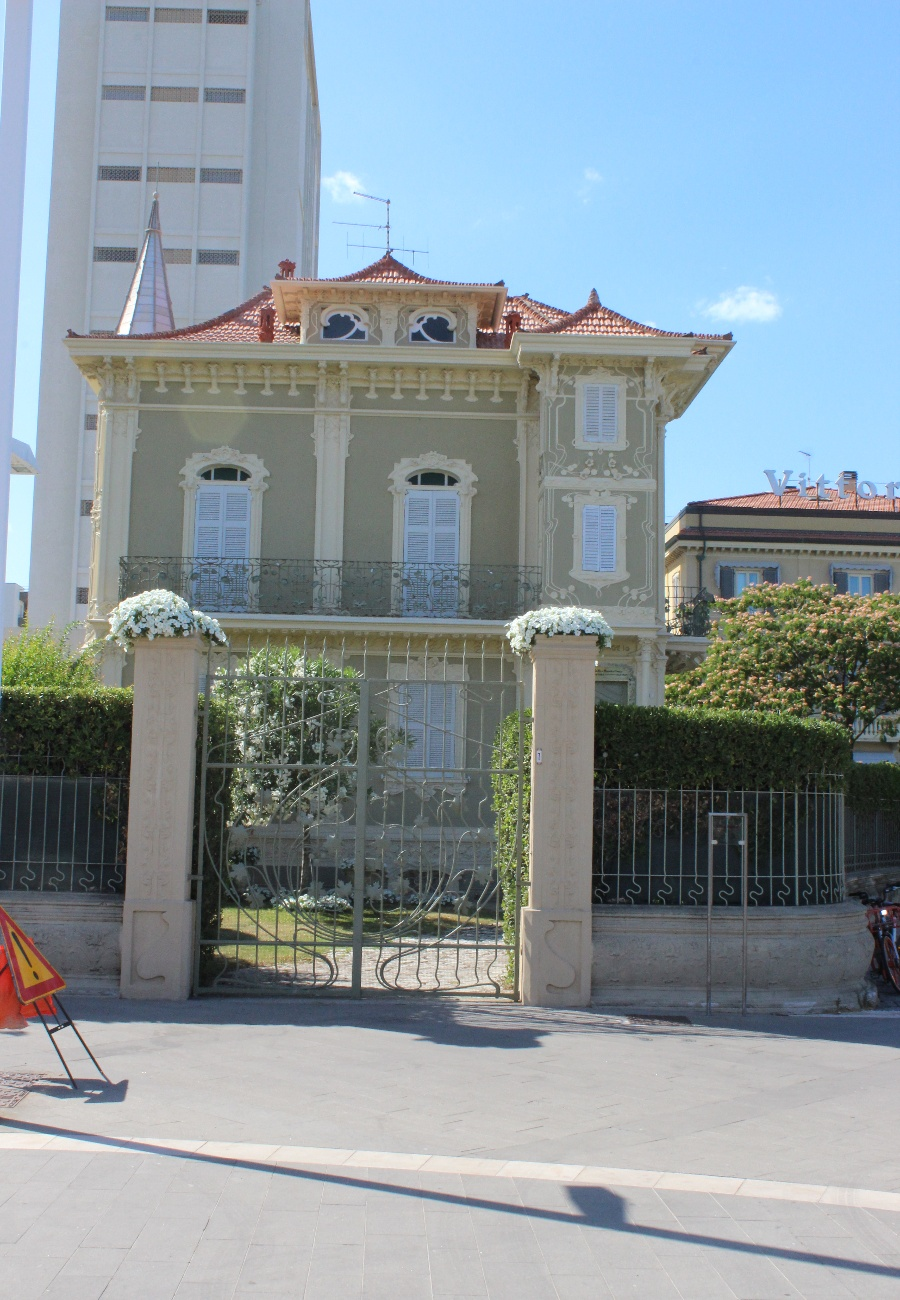Villino Ruggeri: (61, 192, 740, 966)
